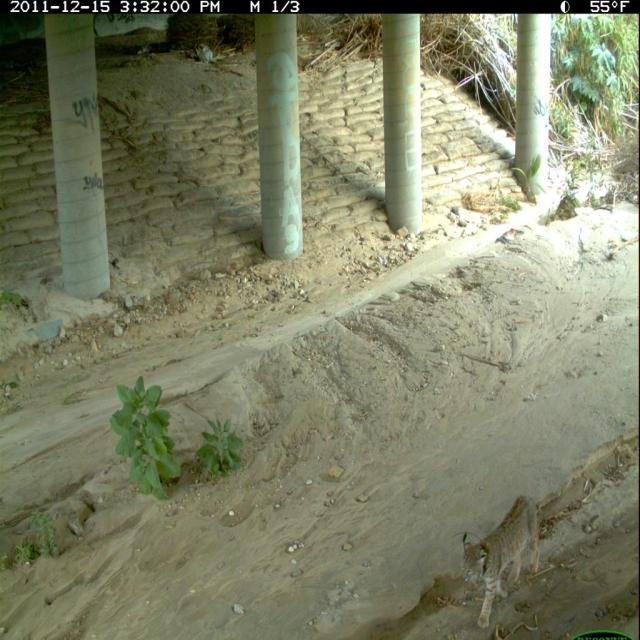bobcat: (458, 489, 547, 634)
